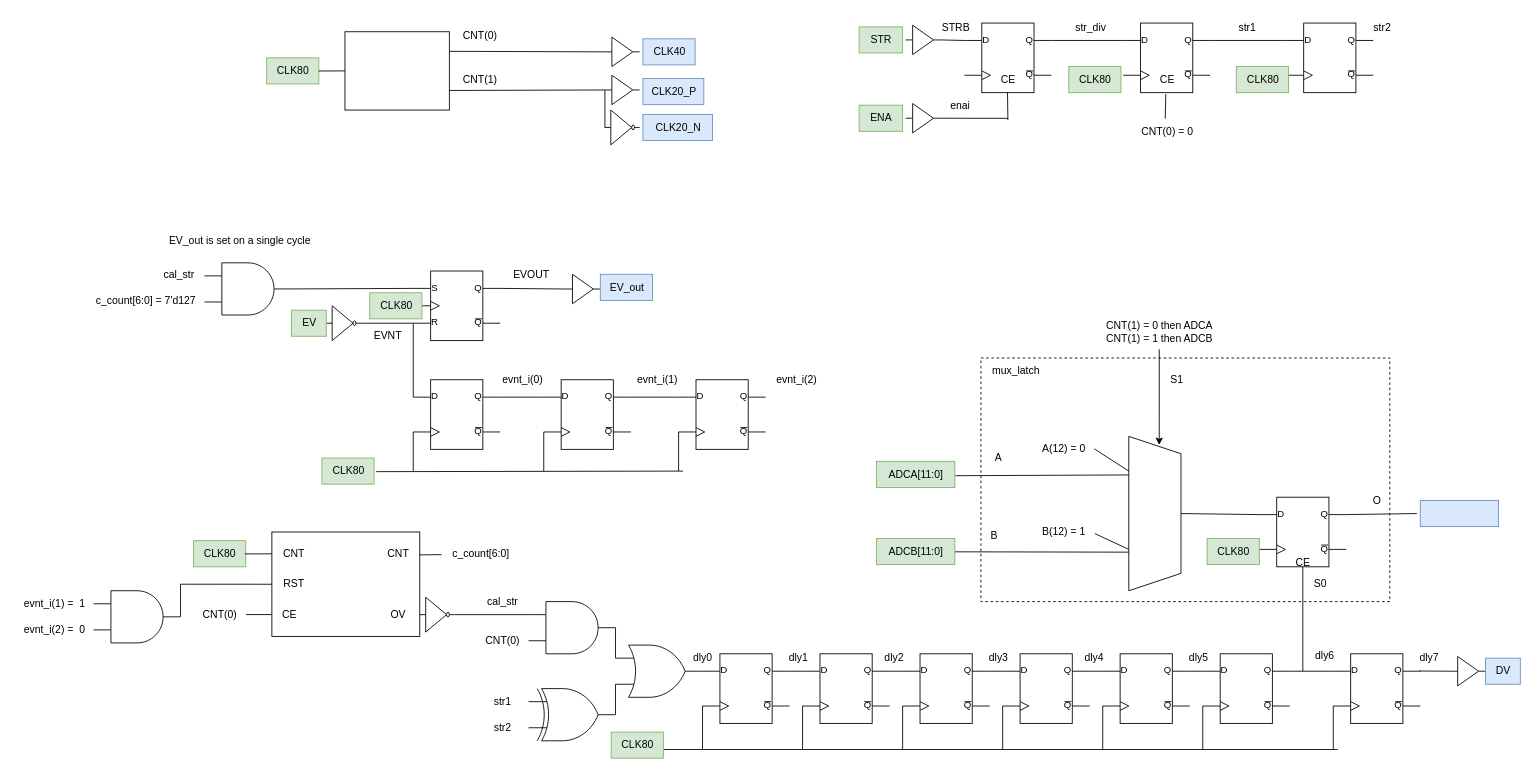
Image size: 1536x773. Some labels were removed from this diagram. The box of each missing label's shape, as (x1, y1, x2, y2) in pixels:
cnt2: (344, 31, 449, 110)
DOUT [12:0]: (1419, 500, 1499, 527)
Up-counter: (271, 531, 420, 636)
